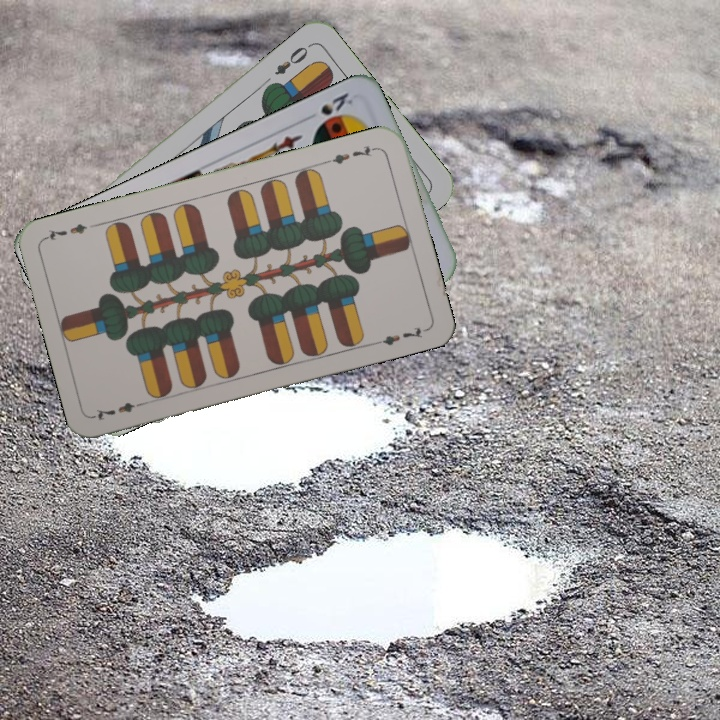E7: (322, 141, 380, 167), (91, 397, 149, 423)
EO: (270, 39, 314, 78)
SK: (316, 88, 356, 118)
